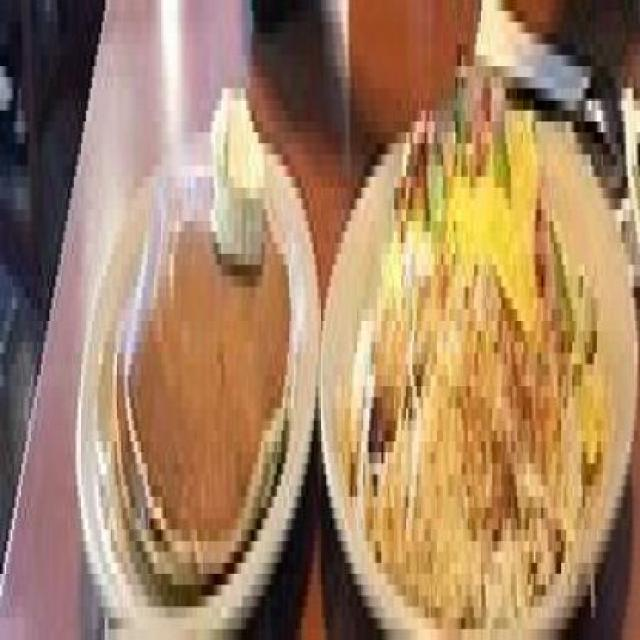ice cream: (205, 55, 264, 276)
omelette: (336, 66, 604, 629)
pancakes: (109, 165, 293, 586)
